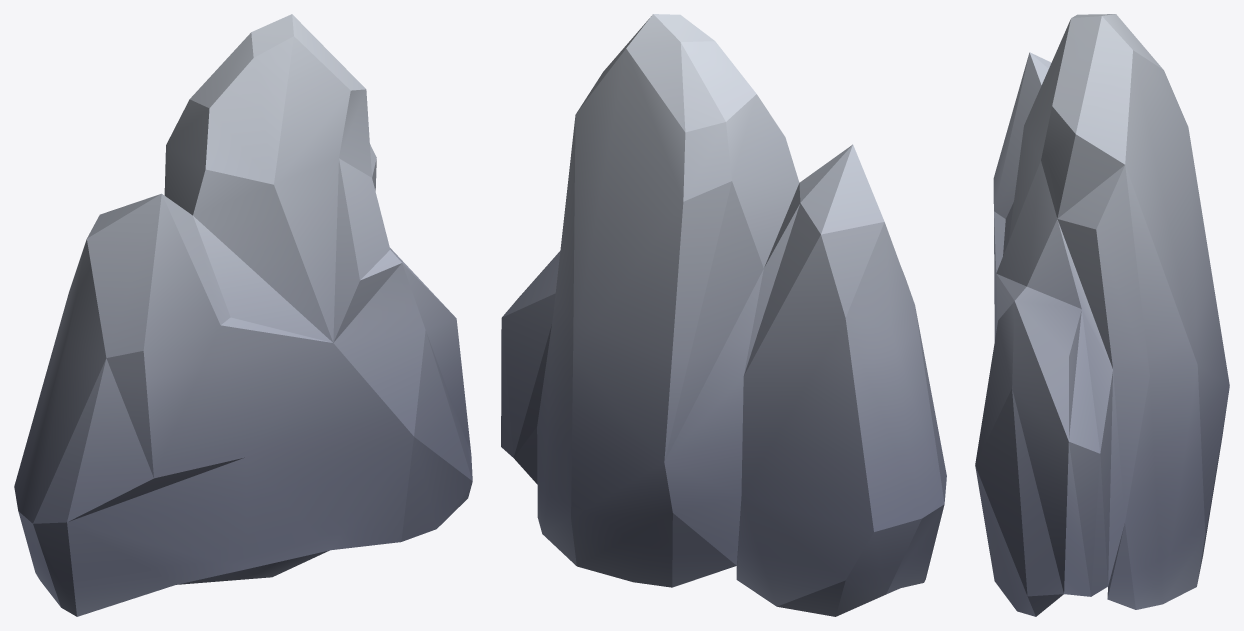
The model's file is Terrain_Stage2_Mountain_3.fbx.
3 views of the same model, side by side, from view 1: azimuth 30°, elevation 25°; view 2: azimuth 150°, elevation 25°; view 3: azimuth 270°, elevation 25° (orthographic). The views are drawn at different scales.
Parts seen in each view (by area): view 1: terrain_mountain_422_LOD1 #1404364; view 2: terrain_mountain_422_LOD1 #1404364; view 3: terrain_mountain_422_LOD1 #1404364.
Boxes of the visible parts, x1,y1,x2,y2 form: terrain_mountain_422_LOD1 #1404364: [14, 14, 472, 616]; terrain_mountain_422_LOD1 #1404364: [501, 14, 946, 616]; terrain_mountain_422_LOD1 #1404364: [975, 14, 1229, 616].
Size of the model in its own units: 1573 by 1839 by 752.
1 material, 1 textured.
